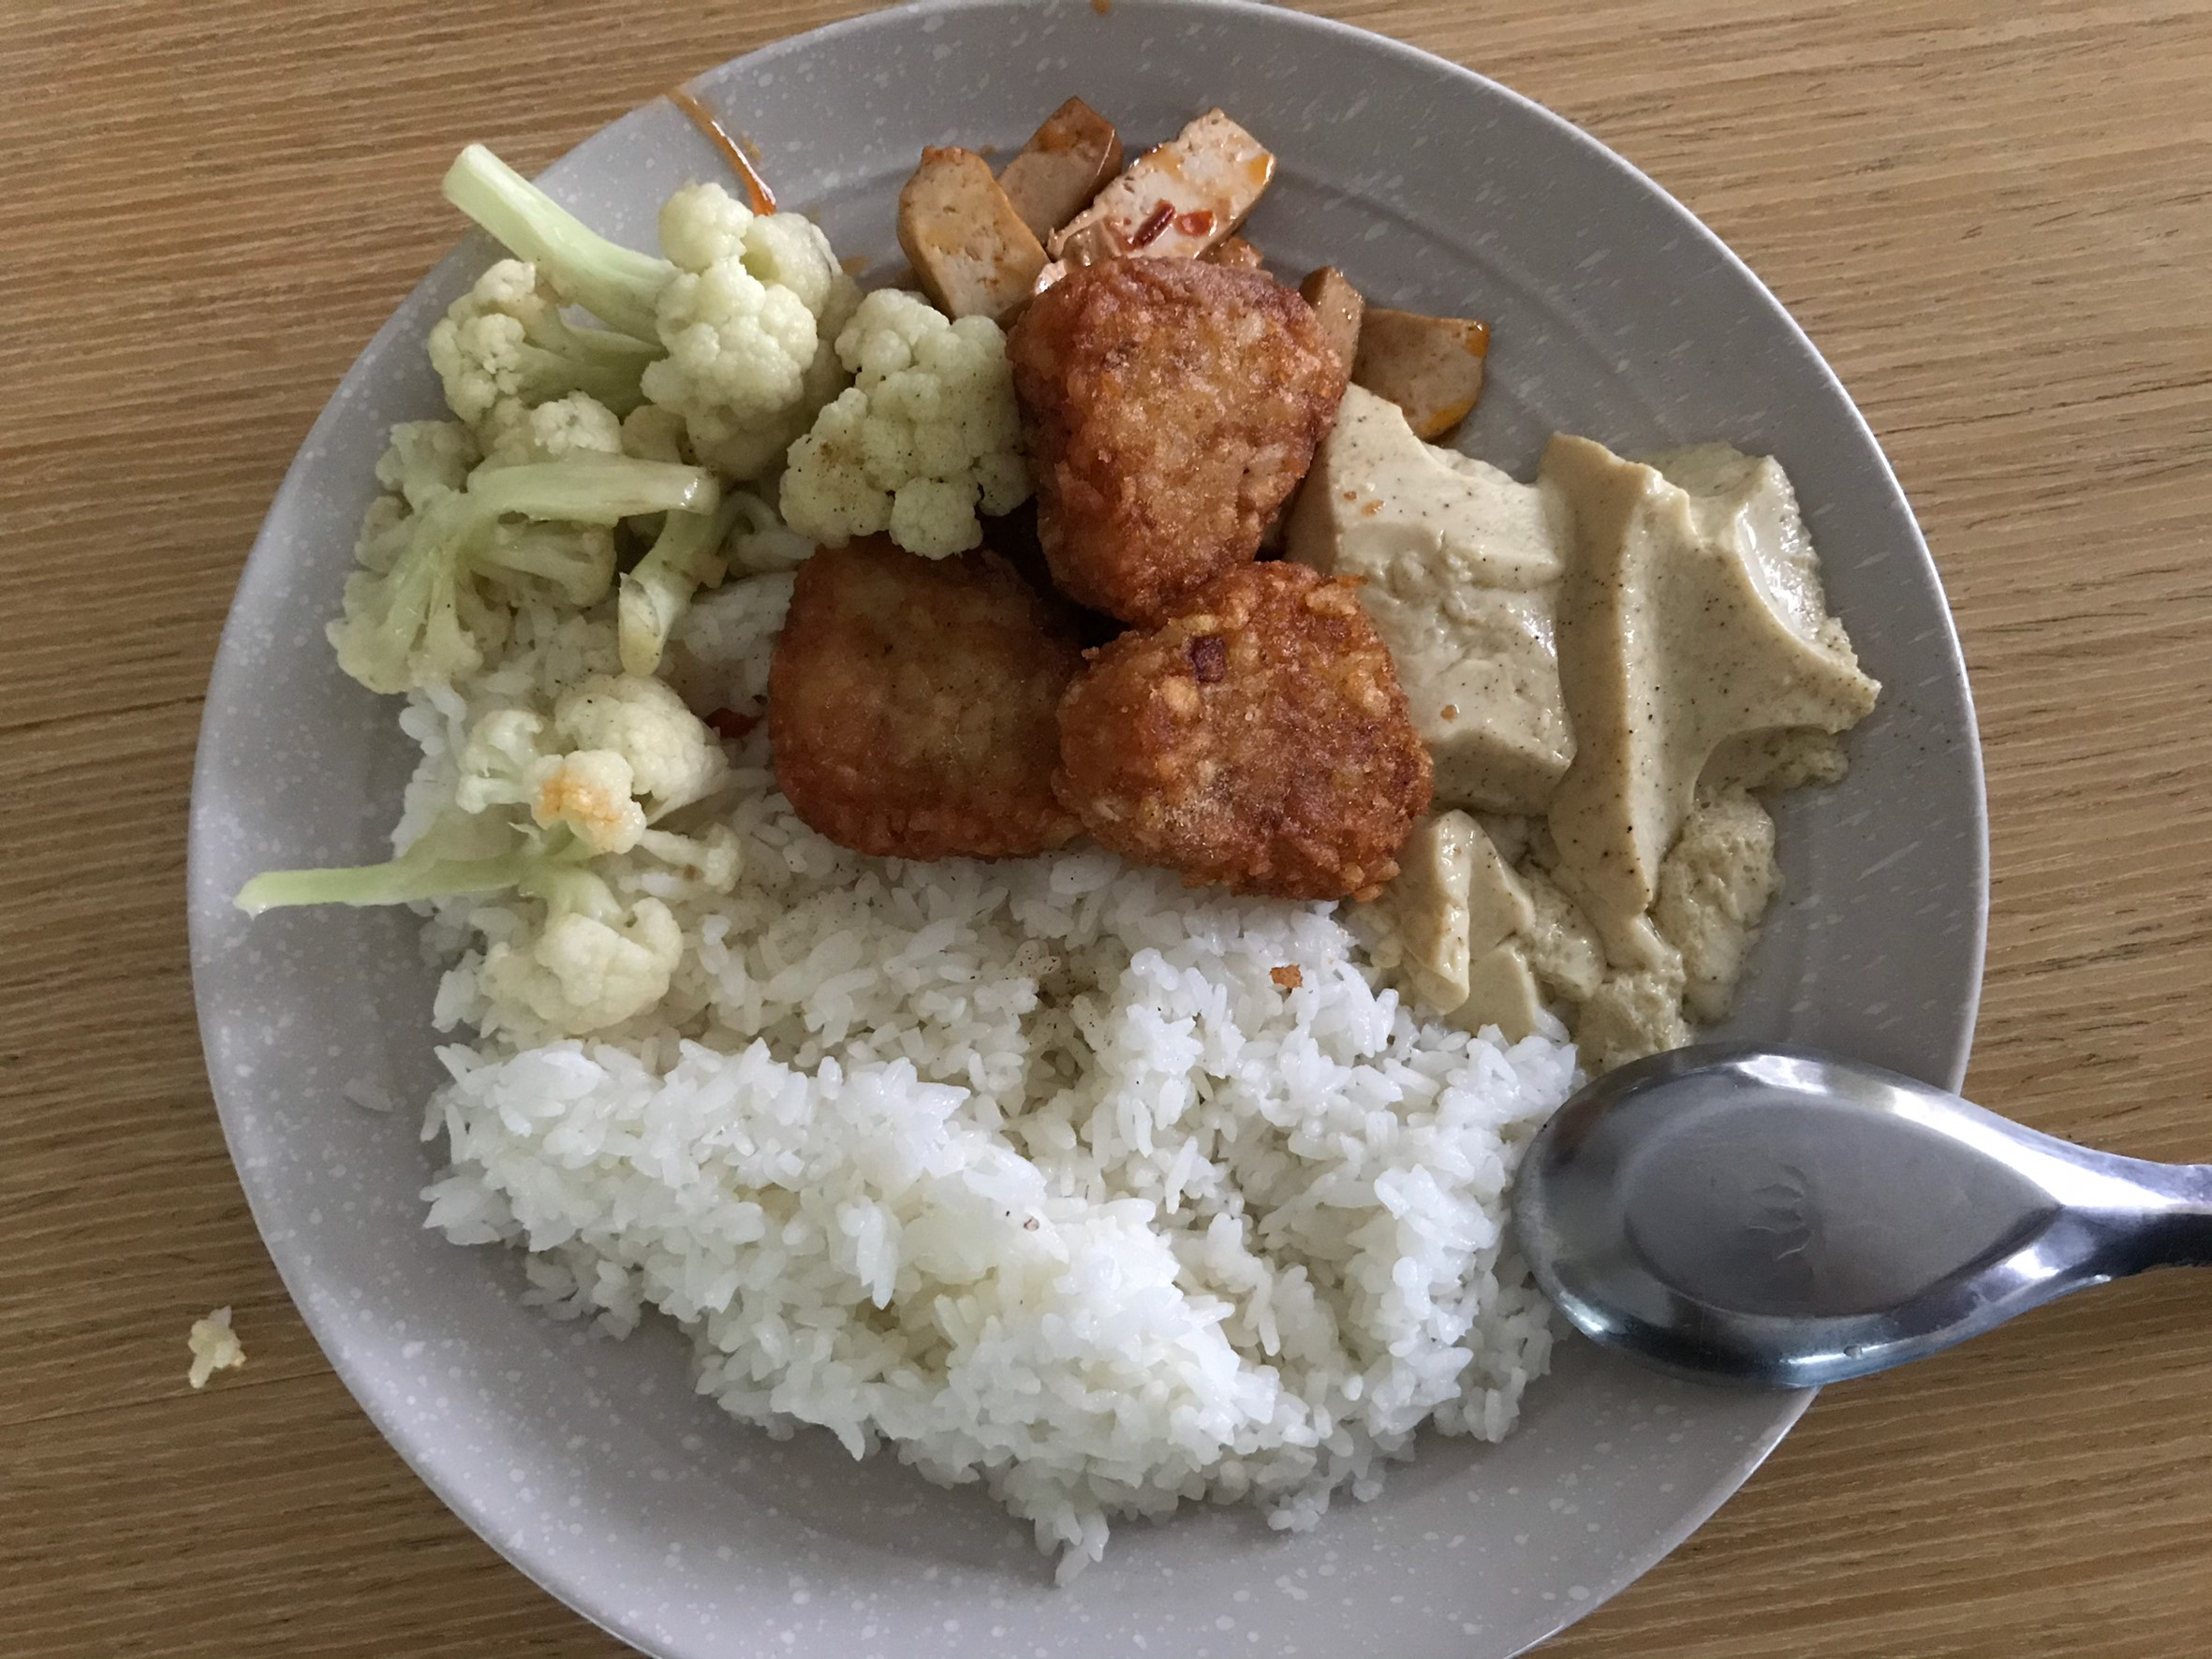rice: (525, 882, 1487, 1504)
triangle_hash_brown: (763, 249, 1436, 868)
